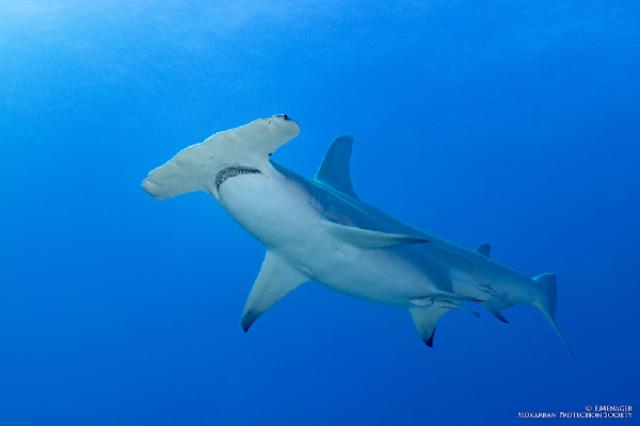Mulut: (196, 148, 270, 212)
Sirip Dada: (232, 213, 436, 343)
Sirip Ekor: (528, 258, 588, 375)
Sirip Perut: (402, 282, 488, 356)
Sirip Punggung: (306, 126, 370, 212)
